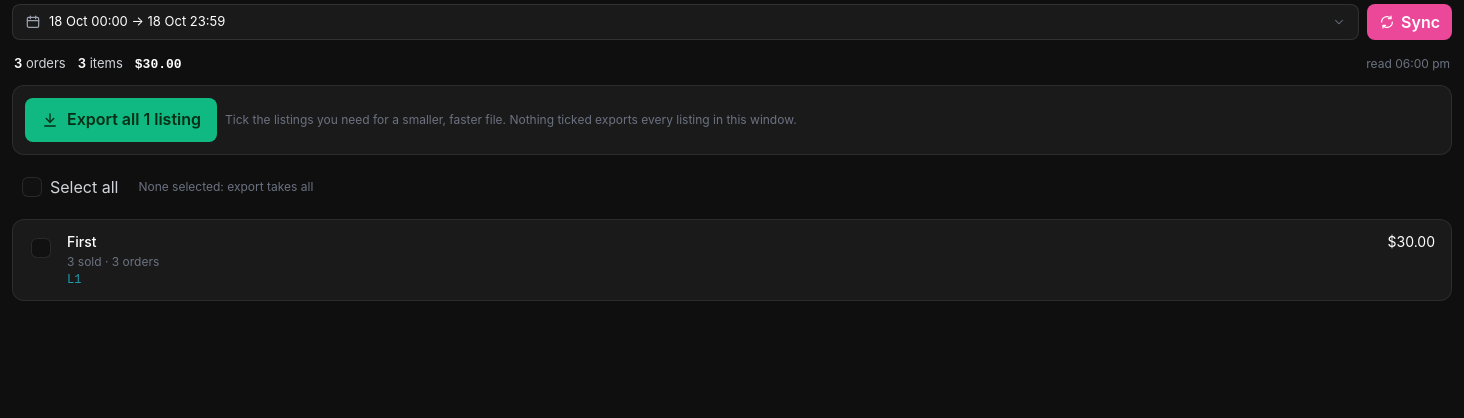
Test case: 7. the Orders tab keeps itself current › the open drill-down is read again after Sync and on each poll
Click the button "First $30.00 3 sold · 3 orders L1": (1416, 241) [63,220,1451,300]
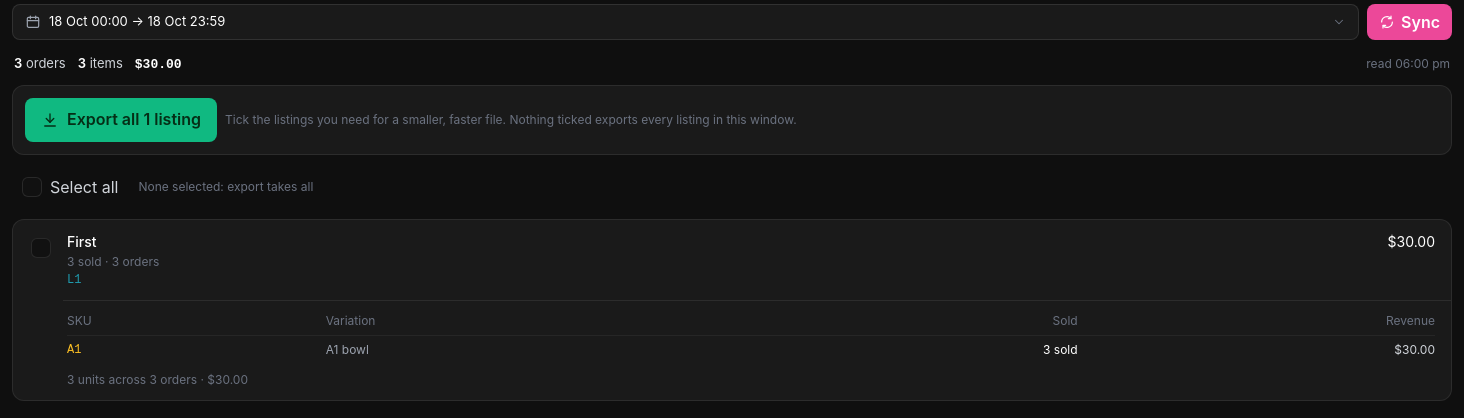
Click the button "Sync": (1410, 22) [1367,4,1452,40]
Wait 60000 ms
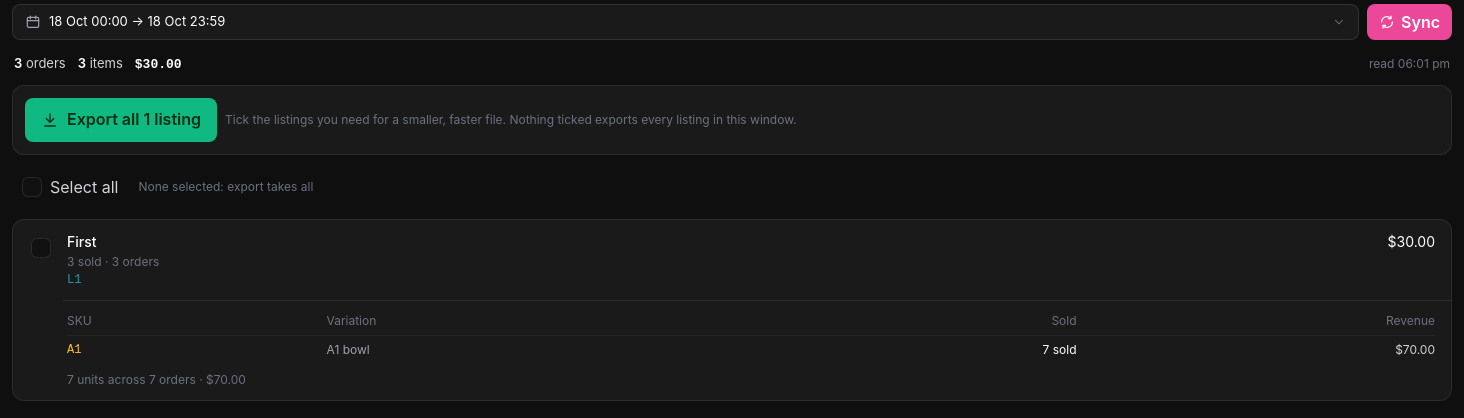
Expected: the text "7 sold" is shown, [1043,342,1077,356]
